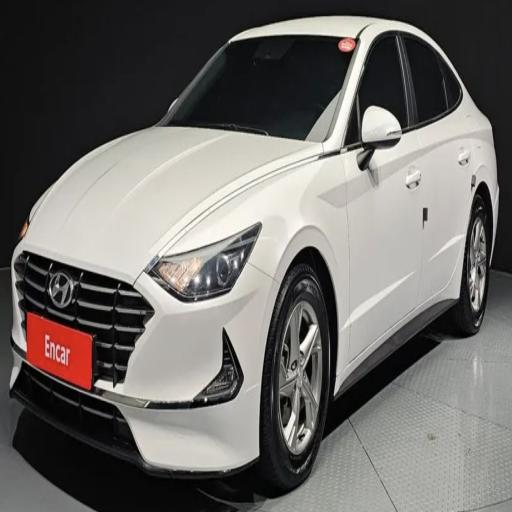normal: (10, 4, 508, 500)
